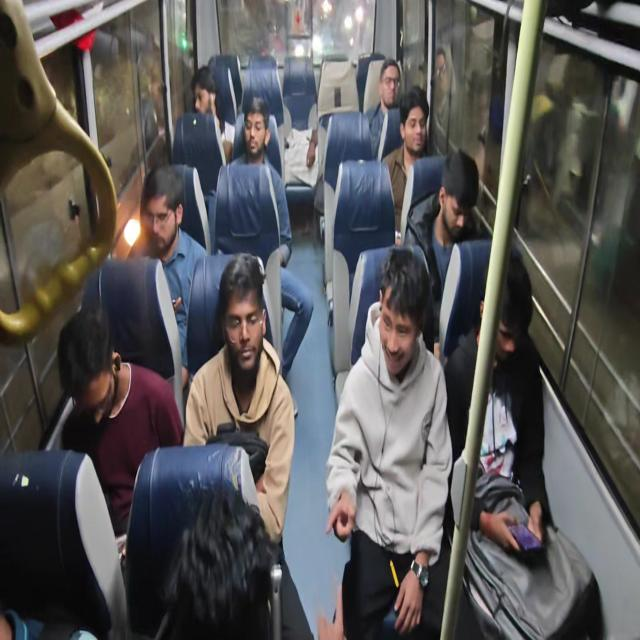person: (152, 441, 258, 640), (22, 320, 127, 460), (380, 264, 440, 406), (139, 166, 187, 269), (218, 281, 263, 385), (479, 271, 527, 365), (290, 109, 316, 223), (236, 102, 272, 180), (406, 93, 439, 175), (446, 156, 476, 241), (372, 58, 409, 122), (183, 63, 214, 125)
